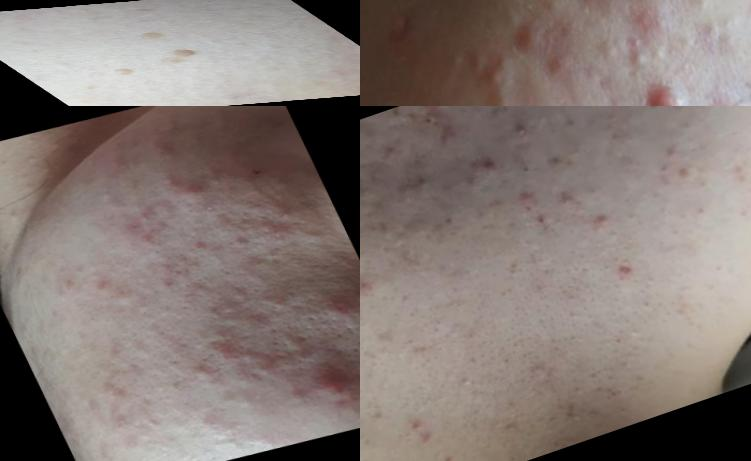acne_scars: (411, 107, 472, 145), (361, 163, 379, 204)
blackhead: (401, 396, 434, 438), (624, 288, 662, 317), (605, 324, 636, 356), (490, 341, 522, 371), (271, 352, 302, 373), (231, 233, 259, 255), (223, 362, 253, 382), (249, 355, 274, 378)
flat_wart: (114, 26, 192, 44), (100, 64, 155, 80), (157, 47, 207, 59), (156, 57, 199, 68)
papular: (612, 55, 686, 107), (459, 130, 508, 187), (303, 369, 361, 408), (92, 336, 150, 369), (583, 193, 622, 236), (175, 176, 218, 210), (182, 357, 227, 389), (507, 183, 544, 214), (322, 297, 359, 325), (711, 83, 751, 107), (98, 381, 131, 404), (132, 230, 164, 253), (153, 274, 185, 296), (90, 275, 119, 296), (270, 205, 300, 225), (124, 217, 152, 238), (188, 239, 214, 256), (95, 188, 120, 205)
whitehead: (198, 277, 271, 337), (194, 412, 261, 456), (618, 35, 680, 75), (364, 210, 401, 248), (502, 112, 535, 153), (443, 33, 474, 74), (411, 164, 446, 199), (456, 363, 482, 396), (70, 261, 96, 281)
